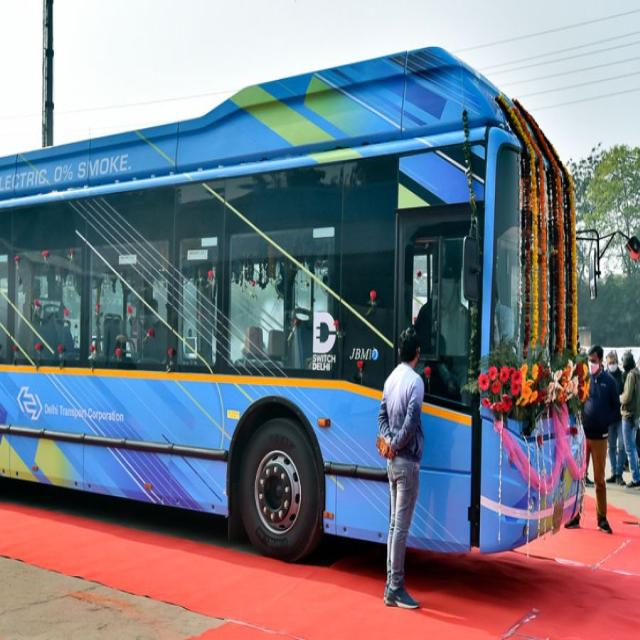bus: (0, 49, 600, 560)
